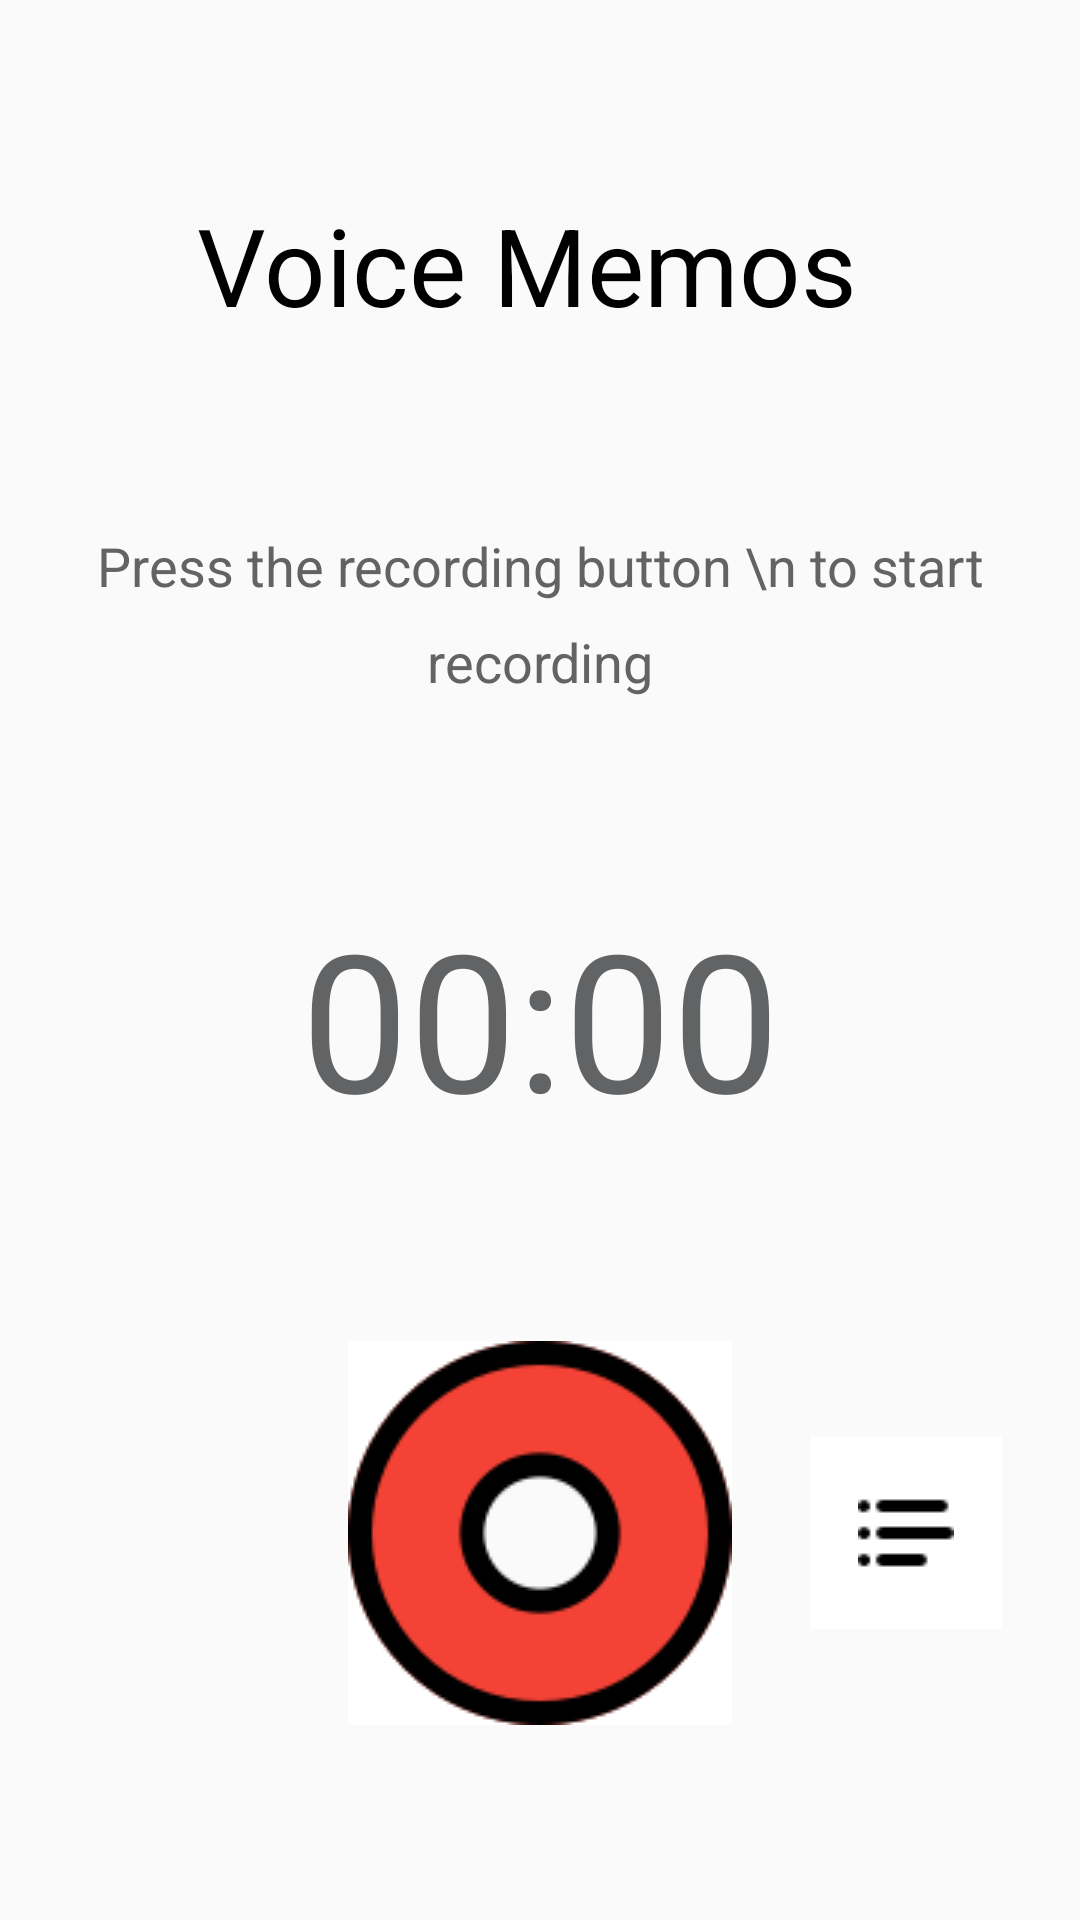

Where to tap for icons on this 1080 × 1920 app screen, as [x,y]:
list: [906,1533]
